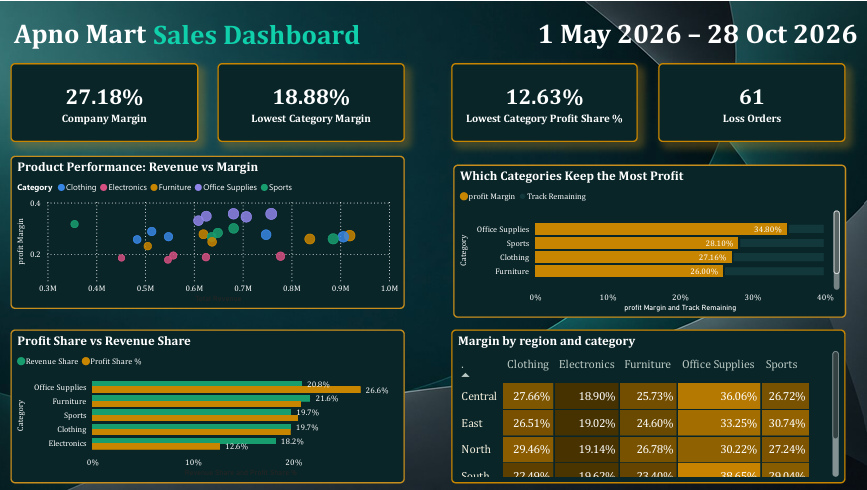

Layout of this report page (visuals, bound fields, positions):
{"tool":"powerbi","page":{"name":"Page 2","canvas":[1280,720],"ordinal":1},"visuals":[{"type":"card","fields":{"Values":["apnomart-sales-data.profit Margin"]},"box":[20,90,275.7,115.7],"z":0},{"type":"card","fields":{"Values":["apnomart-sales-data.Lowest Category Margin"]},"box":[324.3,90,274.3,115.7],"z":1000},{"type":"card","fields":{"Values":["apnomart-sales-data.Lowest Category Profit Share %"]},"box":[667.1,90,274.3,115.7],"z":2000},{"type":"card","fields":{"Values":["apnomart-sales-data.Loss Orders"]},"box":[971.4,90,274.3,115.7],"z":3000},{"type":"pivotTable","title":"Margin by region and category","fields":{"Rows":["apnomart-sales-data.Region"],"Columns":["apnomart-sales-data.Category"],"Values":["apnomart-sales-data.profit Margin"]},"box":[667.1,481.4,578.6,225.7],"z":4000},{"type":"scatterChart","title":"Product Performance: Revenue vs Margin","fields":{"Category":["apnomart-sales-data.Product"],"X":["apnomart-sales-data.Total Revenue"],"Y":["apnomart-sales-data.profit Margin"],"Size":["apnomart-sales-data.Total Profit"],"Series":["apnomart-sales-data.Category"]},"box":[20,225.7,578.6,225.7],"z":5000},{"type":"barChart","title":"Which Categories Keep the Most Profit","fields":{"Category":["apnomart-sales-data.Category"],"Y":["apnomart-sales-data.profit Margin","apnomart-sales-data.Track Remaining"]},"box":[670,238.6,577.1,225.7],"z":6000},{"type":"clusteredBarChart","title":"Profit Share vs Revenue Share","fields":{"Y":["apnomart-sales-data.Revenue Share","apnomart-sales-data.Profit Share %"],"Category":["apnomart-sales-data.Category"]},"box":[20,481.4,578.6,225.7],"z":7000},{"type":"textbox","title":"Apno Mart","box":[19.7,22.7,204.5,51.5],"z":8000},{"type":"textbox","title":"1 May 2026 – 28 Oct 2026","box":[788.9,22.2,483.3,50],"z":9000},{"type":"textbox","title":"Sales Dashboard","box":[224.2,24.2,315.2,48.5],"z":10000}]}

Visuals, with their boxes in screenshot pixels (x1, y1, x2, y2), scaled from the page's 1280x720 canvas onto the 867x490 screenshot:
card - apnomart-sales-data.profit Margin: rect(14, 61, 200, 140)
card - apnomart-sales-data.Lowest Category Margin: rect(220, 61, 405, 140)
card - apnomart-sales-data.Lowest Category Profit Share %: rect(452, 61, 638, 140)
card - apnomart-sales-data.Loss Orders: rect(658, 61, 844, 140)
"Margin by region and category" pivotTable: rect(452, 328, 844, 481)
"Product Performance: Revenue vs Margin" scatterChart: rect(14, 154, 405, 307)
"Which Categories Keep the Most Profit" barChart: rect(454, 162, 845, 316)
"Profit Share vs Revenue Share" clusteredBarChart: rect(14, 328, 405, 481)
"Apno Mart" textbox: rect(13, 15, 152, 50)
"1 May 2026 – 28 Oct 2026" textbox: rect(534, 15, 862, 49)
"Sales Dashboard" textbox: rect(152, 16, 365, 49)
